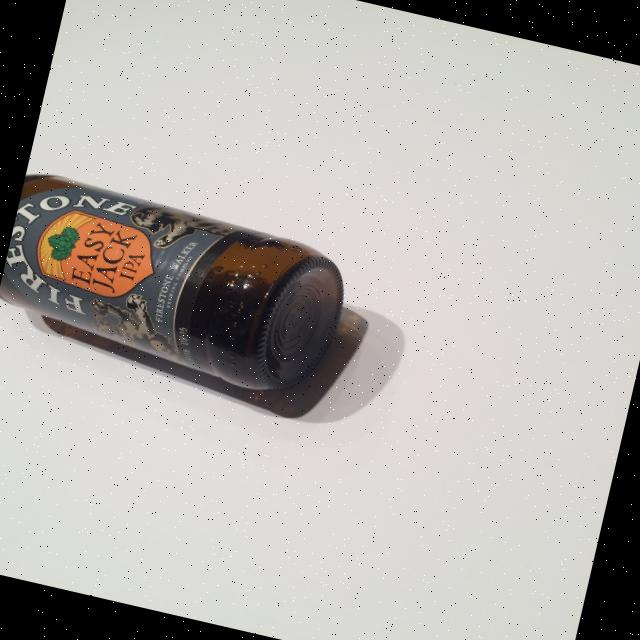glass: (0, 167, 358, 407)
